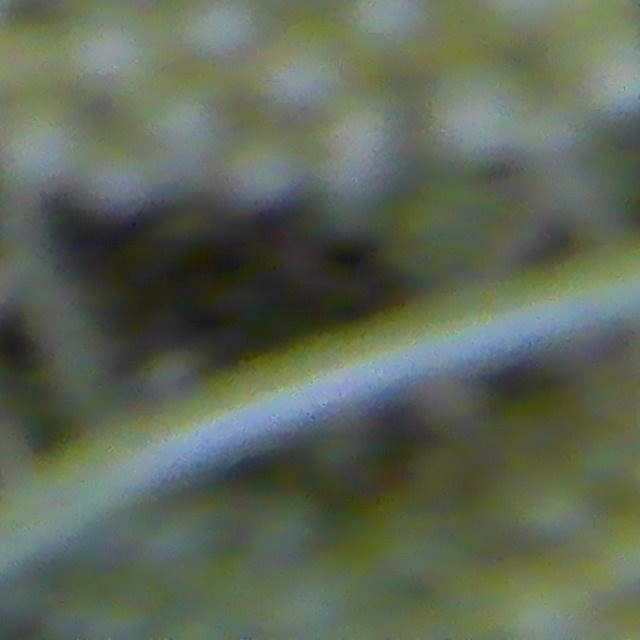SeaGrape: (425, 54, 532, 165), (58, 4, 165, 103), (547, 8, 640, 118), (321, 0, 437, 87), (253, 19, 349, 116), (0, 91, 84, 192), (215, 125, 303, 212), (74, 135, 151, 221), (158, 0, 258, 66)
